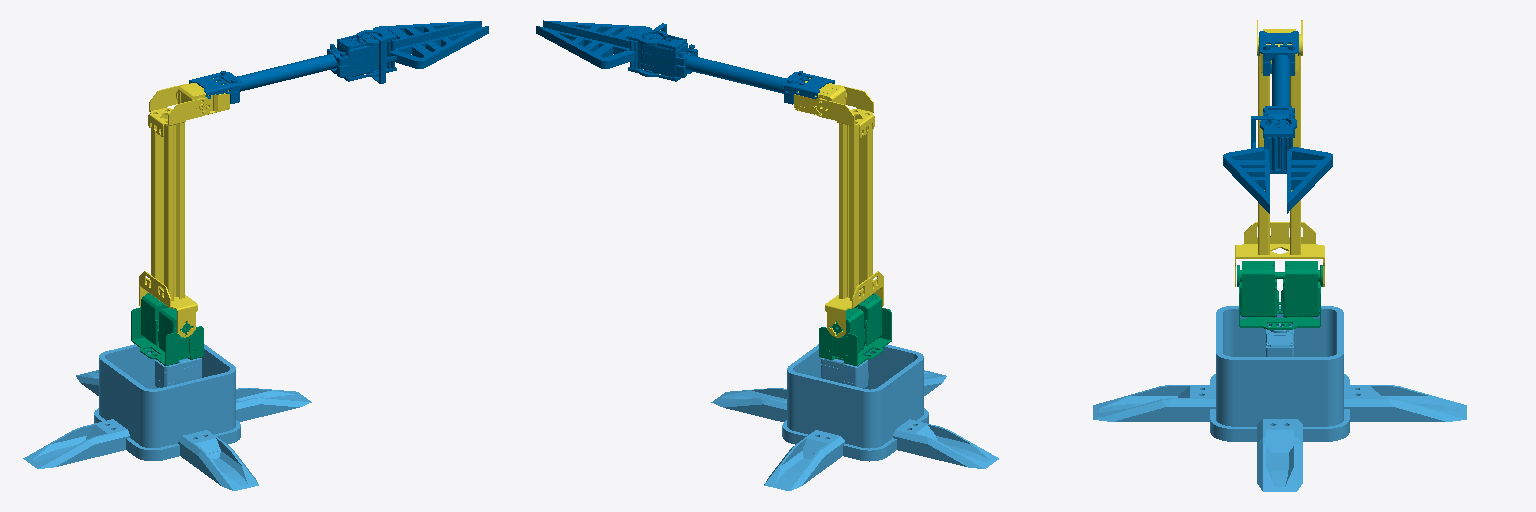
The robot description file, URDF, robot "robot_arm":
<?xml version="1.0"?>
<robot name="robot_arm">

  <link name="world"/>

  <joint name="world_to_base" type="fixed">
    <parent link="world"/>
    <child link="robot_base"/>
    <origin xyz="0 0 0" rpy="0 0 0"/>
  </joint>

  <link name="robot_base">
    <visual>
      <origin xyz="0 0 0" rpy="0 0 0"/>
      <geometry>
        <mesh filename="package://robot_arm_description/meshes/base.stl" scale="0.001 0.001 0.001"/>
      </geometry>
    </visual>

    <visual>
      <origin xyz="0 0 0" rpy="0 0 0"/>
      <geometry>
        <mesh filename="package://robot_arm_description/meshes/base_leg_1.stl" scale="0.001 0.001 0.001"/>
      </geometry>
    </visual>

    <visual>
      <origin xyz="0 0 0" rpy="0 0 0"/>
      <geometry>
        <mesh filename="package://robot_arm_description/meshes/base_leg_2.stl" scale="0.001 0.001 0.001"/>
      </geometry>
    </visual>

    <visual>
      <origin xyz="0 0 0" rpy="0 0 0"/>
      <geometry>
        <mesh filename="package://robot_arm_description/meshes/base_leg_3.stl" scale="0.001 0.001 0.001"/>
      </geometry>
    </visual>

    <visual>
      <origin xyz="0 0 0" rpy="0 0 0"/>
      <geometry>
        <mesh filename="package://robot_arm_description/meshes/base_leg_4.stl" scale="0.001 0.001 0.001"/>
      </geometry>
    </visual>

    <visual>
      <origin xyz="0 0 0" rpy="0 0 0"/>
      <geometry>
        <mesh filename="package://robot_arm_description/meshes/motor_base.stl" scale="0.001 0.001 0.001"/>
      </geometry>
    </visual>
  </link>

  <joint name="joint_base_rotate" type="revolute">
    <parent link="robot_base"/>
    <child link="link_turntable"/>
    <origin xyz="0 0 0.0125" rpy="0 0 0"/>
    <axis xyz="0 0 1"/>
    <limit lower="-3.14" upper="3.14" effort="5.0" velocity="1.5"/>
  </joint>

  <link name="link_turntable">
    <visual>
      <origin xyz="0 0 -0.0125" rpy="0 0 0"/>
      <geometry>
        <mesh filename="package://robot_arm_description/meshes/arm_base.stl" scale="0.001 0.001 0.001"/>
      </geometry>
    </visual>

    <visual>
      <origin xyz="0 0 -0.0125" rpy="0 0 0"/>
      <geometry>
        <mesh filename="package://robot_arm_description/meshes/motor_shoulder_1.stl" scale="0.001 0.001 0.001"/>
      </geometry>
    </visual>

    <visual>
      <origin xyz="0 0 -0.0125" rpy="0 0 0"/>
      <geometry>
        <mesh filename="package://robot_arm_description/meshes/motor_shoulder_2.stl" scale="0.001 0.001 0.001"/>
      </geometry>
    </visual>
  </link>

  <joint name="joint_shoulder" type="revolute">
    <parent link="link_turntable"/>
    <child link="link_upper_arm"/>
    <origin xyz="0 0 0.0395" rpy="0 0 0"/>
    <axis xyz="0 1 0"/>
    <limit lower="-1.57" upper="1.57" effort="5.0" velocity="1.5"/>
  </joint>

  <link name="link_upper_arm">
    <visual>
      <origin xyz="0 0 -0.052" rpy="0 0 0"/>
      <geometry>
        <mesh filename="package://robot_arm_description/meshes/shoulder.stl" scale="0.001 0.001 0.001"/>
      </geometry>
    </visual>

    <visual>
      <origin xyz="0 0 -0.052" rpy="0 0 0"/>
      <geometry>
        <mesh filename="package://robot_arm_description/meshes/upper_arm.stl" scale="0.001 0.001 0.001"/>
      </geometry>
    </visual>

    <visual>
      <origin xyz="0 0 -0.052" rpy="0 0 0"/>
      <geometry>
        <mesh filename="package://robot_arm_description/meshes/elbow_a.stl" scale="0.001 0.001 0.001"/>
      </geometry>
    </visual>

    <visual>
      <origin xyz="0 0 -0.052" rpy="0 0 0"/>
      <geometry>
        <mesh filename="package://robot_arm_description/meshes/motor_elbow.stl" scale="0.001 0.001 0.001"/>
      </geometry>
    </visual>
  </link>

  <joint name="joint_elbow" type="revolute">
    <parent link="link_upper_arm"/>
    <child link="link_forearm"/>
    <origin xyz="0.03 0 0.2368" rpy="0 0 0"/>
    <axis xyz="0 1 0"/>
    <limit lower="-1.57" upper="1.57" effort="5.0" velocity="1.5"/>
  </joint>

  <link name="link_forearm">
    <visual>
      <origin xyz="-0.03 0 -0.2888" rpy="0 0 0"/>
      <geometry>
        <mesh filename="package://robot_arm_description/meshes/elbow_b.stl" scale="0.001 0.001 0.001"/>
      </geometry>
    </visual>

    <visual>
      <origin xyz="-0.03 0 -0.2888" rpy="0 0 0"/>
      <geometry>
        <mesh filename="package://robot_arm_description/meshes/forearm.stl" scale="0.001 0.001 0.001"/>
      </geometry>
    </visual>

    <visual>
      <origin xyz="-0.03 0 -0.2888" rpy="0 0 0"/>
      <geometry>
        <mesh filename="package://robot_arm_description/meshes/motor_wrist.stl" scale="0.001 0.001 0.001"/>
      </geometry>
    </visual>

    <visual>
      <origin xyz="-0.03 0 -0.2888" rpy="0 0 0"/>
      <geometry>
        <mesh filename="package://robot_arm_description/meshes/leg_holder_elbow.stl" scale="0.001 0.001 0.001"/>
      </geometry>
    </visual>

    <visual>
      <origin xyz="-0.03 0 -0.2888" rpy="0 0 0"/>
      <geometry>
        <mesh filename="package://robot_arm_description/meshes/leg_holder_wrist.stl" scale="0.001 0.001 0.001"/>
      </geometry>
    </visual>

    <visual>
      <origin xyz="-0.03 0 -0.2888" rpy="0 0 0"/>
      <geometry>
        <mesh filename="package://robot_arm_description/meshes/screws_forearm.stl" scale="0.001 0.001 0.001"/>
      </geometry>
    </visual>
  </link>

</robot>

--- What the picture shows (computed from the rendered views, not written in the file) ---
3 views of the same robot in one strip: view 1: azimuth 30°, elevation 25°; view 2: azimuth 150°, elevation 25°; view 3: azimuth 270°, elevation 25° (orthographic).
Robot: robot_arm — 5 links, 4 joints (3 revolute, 1 fixed); root link world; default pose: all joints at 0.
Links seen in each view (by area): view 1: robot_base, link_upper_arm, link_forearm, link_turntable; view 2: robot_base, link_upper_arm, link_forearm, link_turntable; view 3: robot_base, link_forearm, link_turntable, link_upper_arm.
Link boxes in pixels (<box>): robot_base: <box>23,344,311,490</box>; link_upper_arm: <box>139,78,229,337</box>; link_forearm: <box>189,21,488,103</box>; link_turntable: <box>131,293,203,365</box>; robot_base: <box>711,344,998,490</box>; link_upper_arm: <box>794,78,883,337</box>; link_forearm: <box>536,20,834,104</box>; link_turntable: <box>819,293,891,366</box>; robot_base: <box>1093,306,1466,491</box>; link_forearm: <box>1223,31,1332,213</box>; link_turntable: <box>1237,261,1322,329</box>; link_upper_arm: <box>1235,20,1324,286</box>.
Size in the robot's own frame: 0.5413 by 0.327 by 0.3976 metres.
19 mesh visuals loaded from 19 distinct referenced files (19 binary STL).
